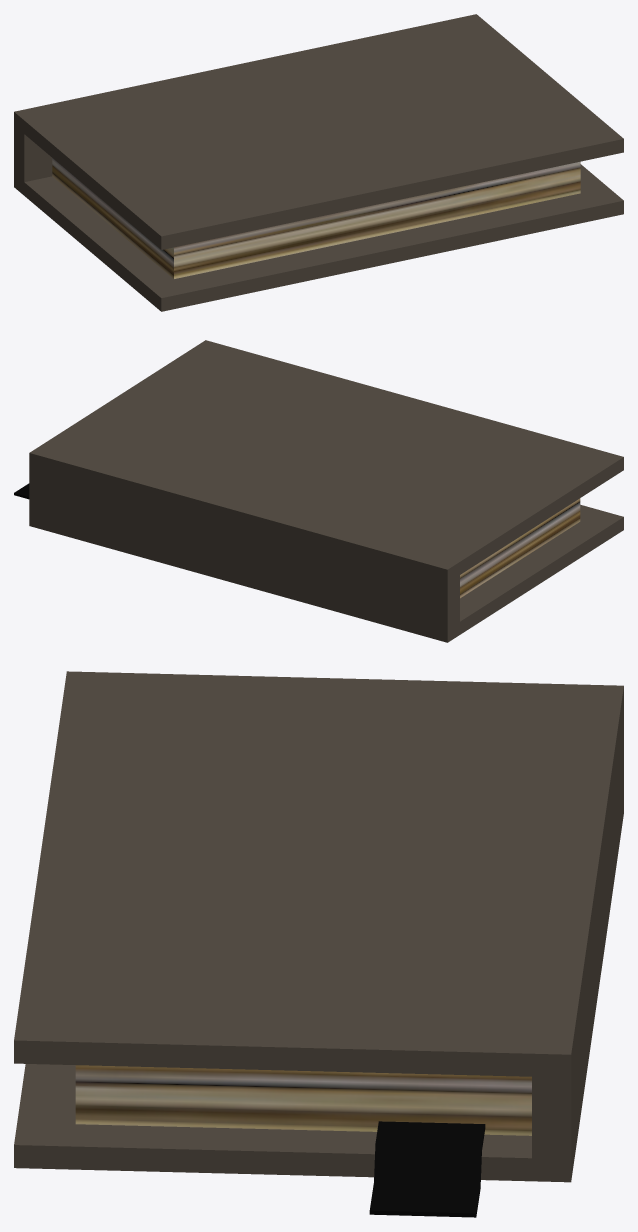
File: Prop_Diario_andrea.fbx
3 views of the same model, one above another, from view 1: azimuth 30°, elevation 25°; view 2: azimuth 150°, elevation 25°; view 3: azimuth 270°, elevation 25° (orthographic). The views are drawn at different scales.
Parts seen in each view (by area): view 1: DIARIO; view 2: DIARIO; view 3: DIARIO.
Part boxes in pixels (x1=…): DIARIO: x1=14, y1=14, x2=623, y2=311; DIARIO: x1=14, y1=340, x2=623, y2=642; DIARIO: x1=14, y1=671, x2=623, y2=1217.
Size of the model in its own units: 0.2979 by 0.0423 by 0.1831.
3 materials, 1 textured.
